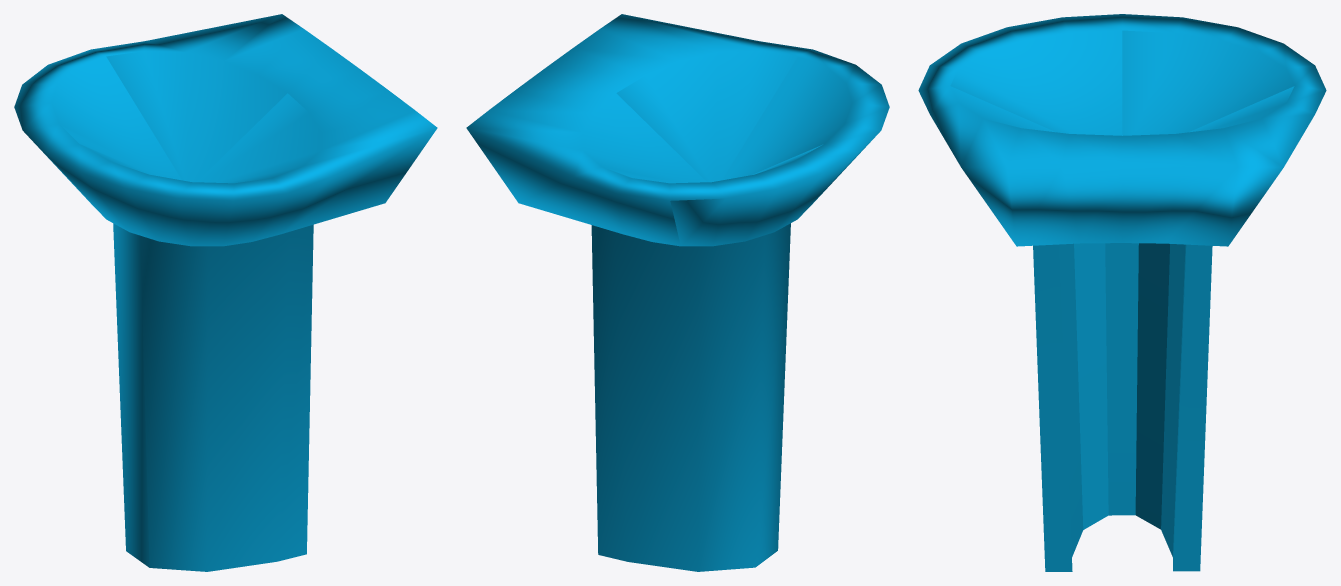
File: Bathroom_Sink_01_Lod2.fbx
The picture shows the model from 3 angles, left to right: view 1: azimuth 30°, elevation 25°; view 2: azimuth 150°, elevation 25°; view 3: azimuth 270°, elevation 25°; orthographic projection. The views are drawn at different scales.
Parts seen in each view (by area): view 1: Bathroom_Sink_01_Lod2; view 2: Bathroom_Sink_01_Lod2; view 3: Bathroom_Sink_01_Lod2.
Part boxes in pixels (<box>): Bathroom_Sink_01_Lod2: <box>14,14,437,571</box>; Bathroom_Sink_01_Lod2: <box>466,14,889,571</box>; Bathroom_Sink_01_Lod2: <box>918,14,1326,571</box>.
Size of the model in its own units: 68.23 by 90.55 by 73.96.
